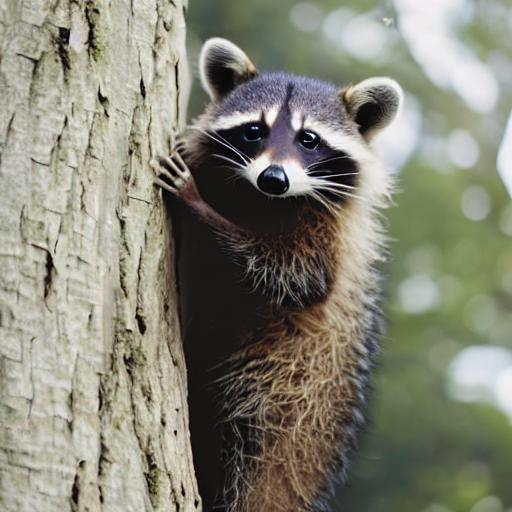raccoon: (188, 32, 423, 512)
